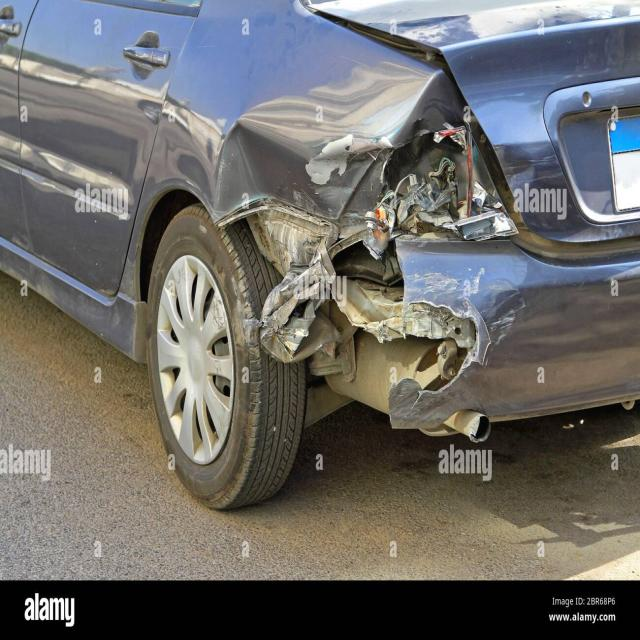crush: (182, 2, 640, 437)
